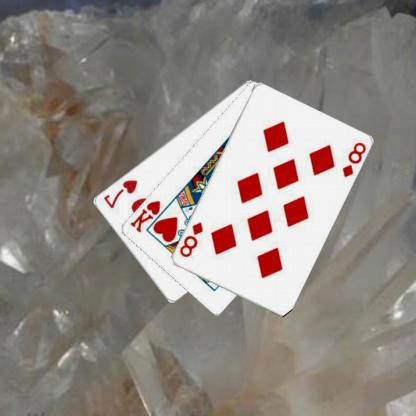7H: (102, 177, 140, 210)
8D: (178, 219, 206, 258), (341, 139, 368, 179)
KH: (129, 198, 163, 234)
